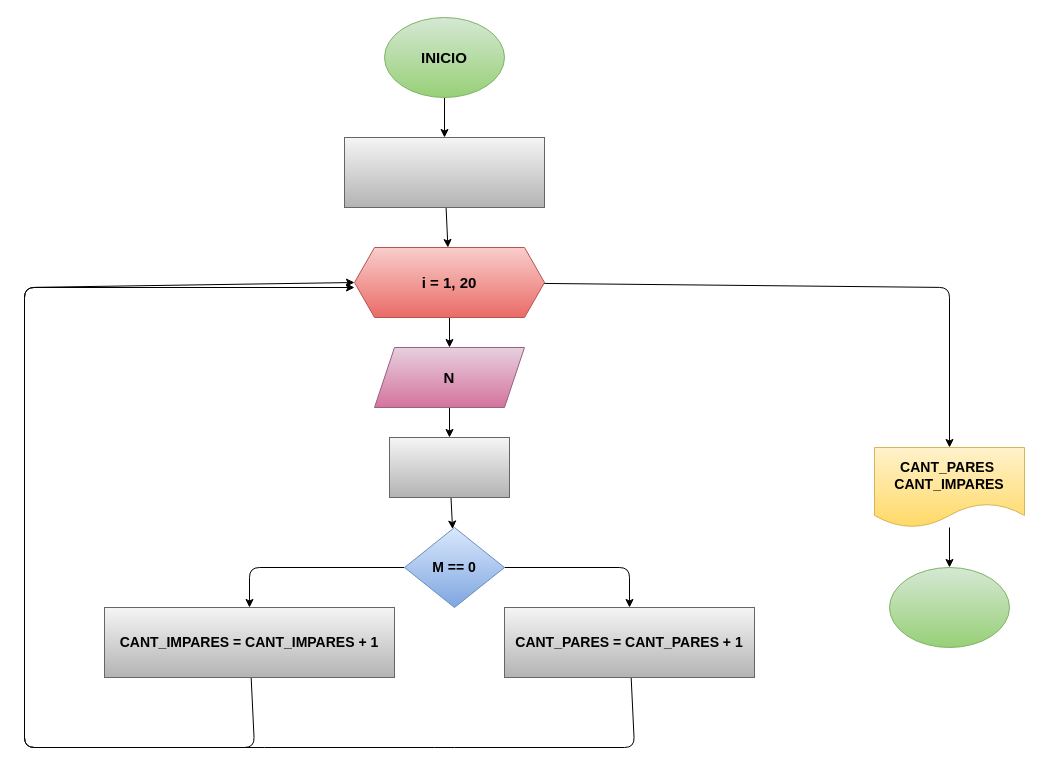
Image size: 1042x773. Some labels were removed from this diagram. Here are the shapes that lost their labels. From the top down, the box of each, then its label:
(344, 136, 544, 208): CANT_PARES = 0 CANT_IMPARES = 0 LISTA_NUMEROS ="NUEMEROS: "
(388, 436, 510, 498): M = N/2
(888, 566, 1010, 648): FIN
